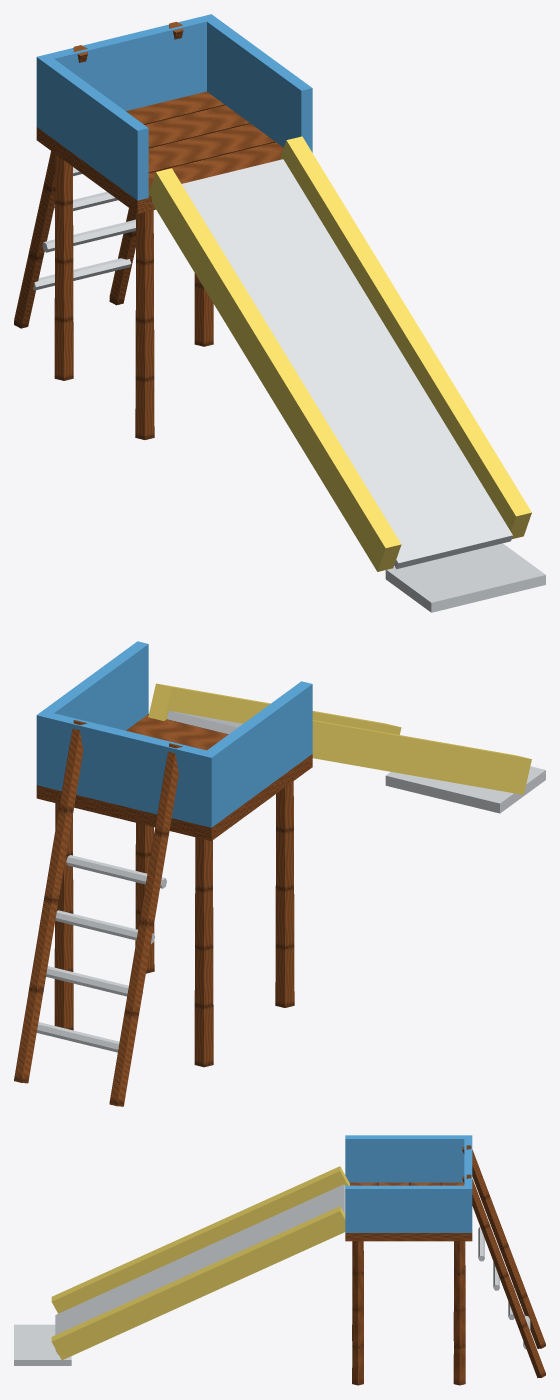
File: city-park-and-playground-playground-slide-ffdeee73.glb
The picture shows the model from 3 angles, top to bottom: view 1: azimuth 30°, elevation 25°; view 2: azimuth 150°, elevation 25°; view 3: azimuth 270°, elevation 25°; orthographic projection. The views are drawn at different scales.
Visible parts, largest first — view 1: playground-slide-steel, playground-slide-sunflower, playground-slide-azure, playground-slide-timber; view 2: playground-slide-timber, playground-slide-azure, playground-slide-sunflower, playground-slide-steel; view 3: playground-slide-sunflower, playground-slide-azure, playground-slide-timber, playground-slide-steel.
Part boxes in pixels (x1,y1,x2,y2): playground-slide-steel: (33,159,545,612); playground-slide-sunflower: (148,136,531,571); playground-slide-azure: (36,14,312,200); playground-slide-timber: (14,22,283,439); playground-slide-timber: (14,714,312,1106); playground-slide-azure: (36,641,312,827); playground-slide-sunflower: (148,683,531,794); playground-slide-steel: (36,711,545,1052); playground-slide-sunflower: (51,1166,349,1360); playground-slide-azure: (345,1135,472,1232); playground-slide-timber: (345,1145,545,1385); playground-slide-steel: (14,1184,530,1365).
Size of the model in its own units: 1.1 by 1.93 by 4.61.
Materials: 4 (1 with a texture image).
